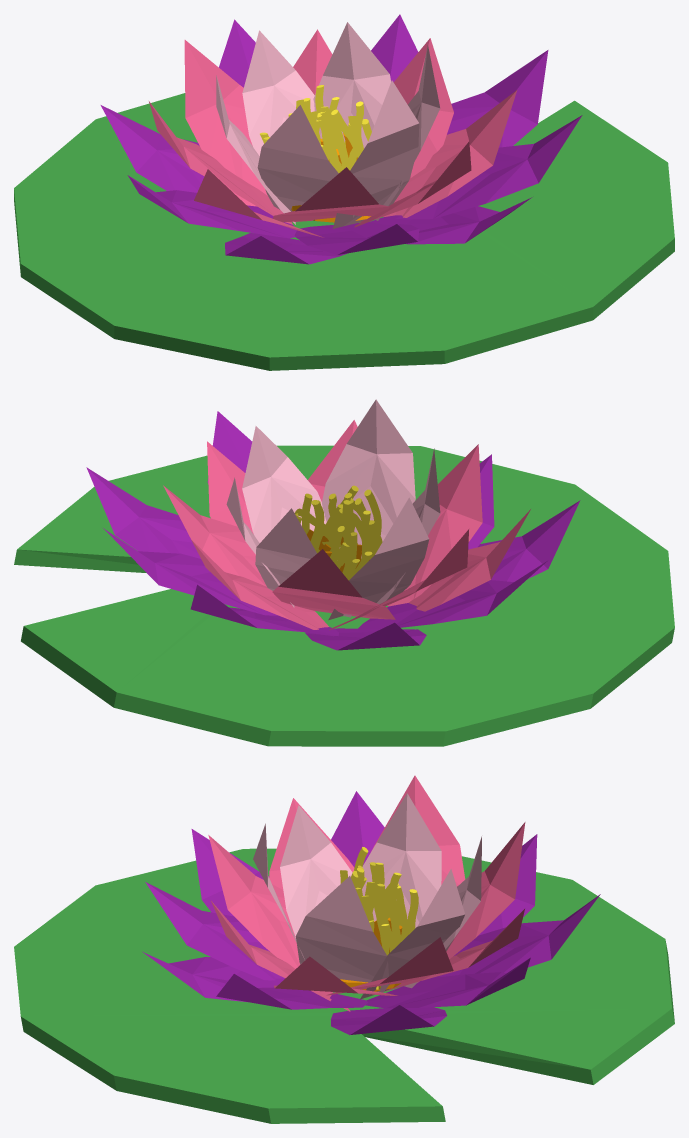
Rendered from flora2_nenuphar.glb.
3 views of the same model, one above another, from view 1: azimuth 30°, elevation 25°; view 2: azimuth 150°, elevation 25°; view 3: azimuth 270°, elevation 25° (orthographic).
Visible parts, largest first — view 1: Node; view 2: Node; view 3: Node.
Boxes of the visible parts, x1,y1,x2,y2 form: Node: [14, 14, 674, 370]; Node: [14, 399, 674, 746]; Node: [14, 775, 674, 1123].
Size of the model in its own units: 0.8307 by 0.2612 by 0.8324.
Materials: 1 (1 with a texture image).
